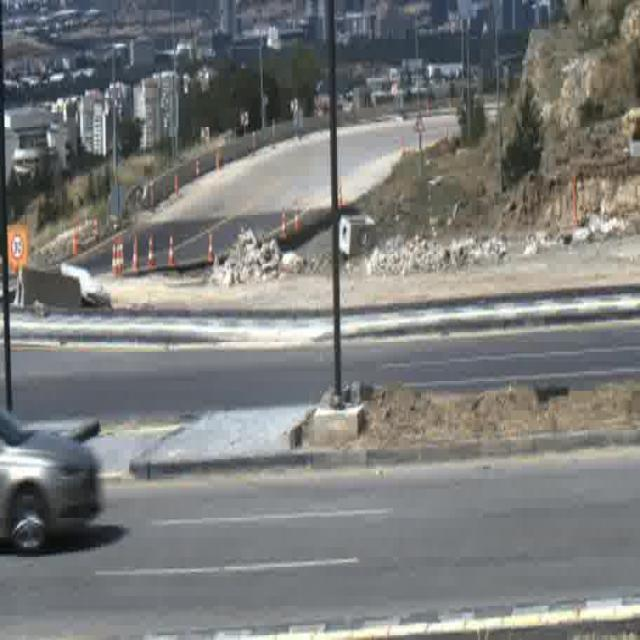Car: (0, 408, 99, 556)
